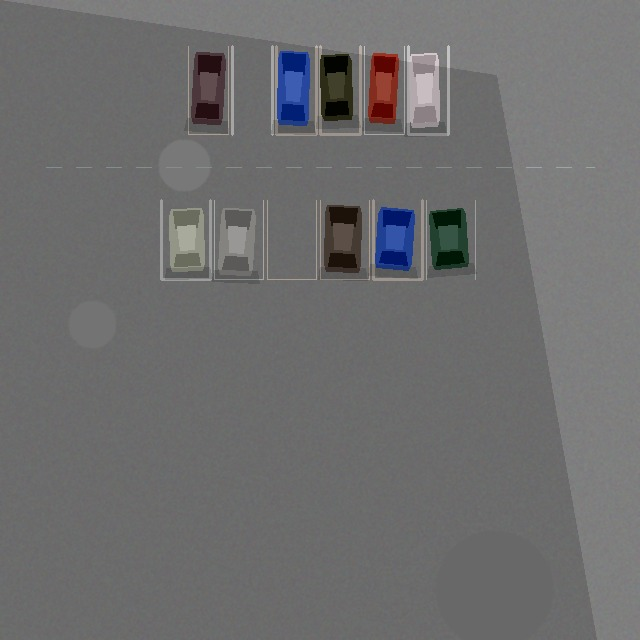space-empty: (267, 200, 316, 279), (232, 46, 272, 134)
space-occupied: (161, 200, 210, 279), (214, 200, 263, 279), (320, 200, 369, 279), (373, 200, 422, 279), (426, 200, 475, 279), (188, 46, 228, 134), (276, 46, 316, 134), (320, 46, 360, 134), (364, 46, 404, 134), (408, 46, 448, 134)
